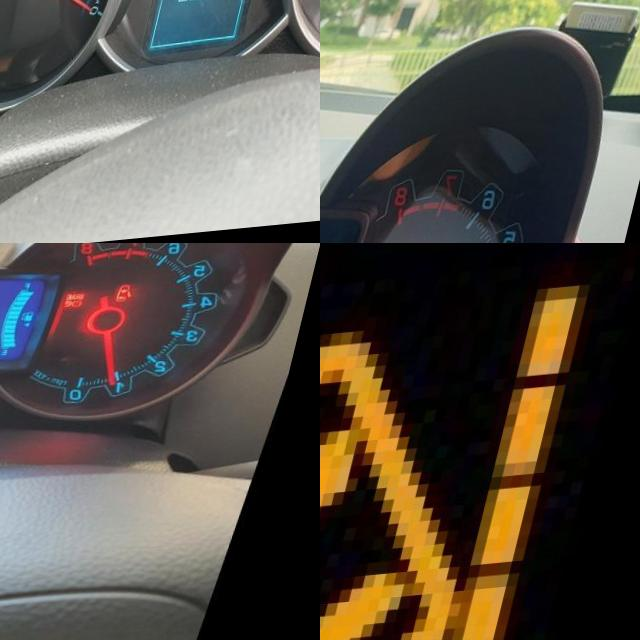Doors: (128, 290, 149, 311)
LaneCenteringOff: (320, 267, 620, 640)
